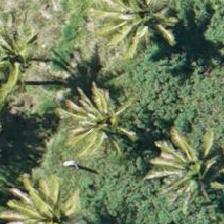coconut_tree: (54, 77, 144, 167), (156, 132, 223, 222), (0, 3, 54, 93), (9, 170, 99, 223)
